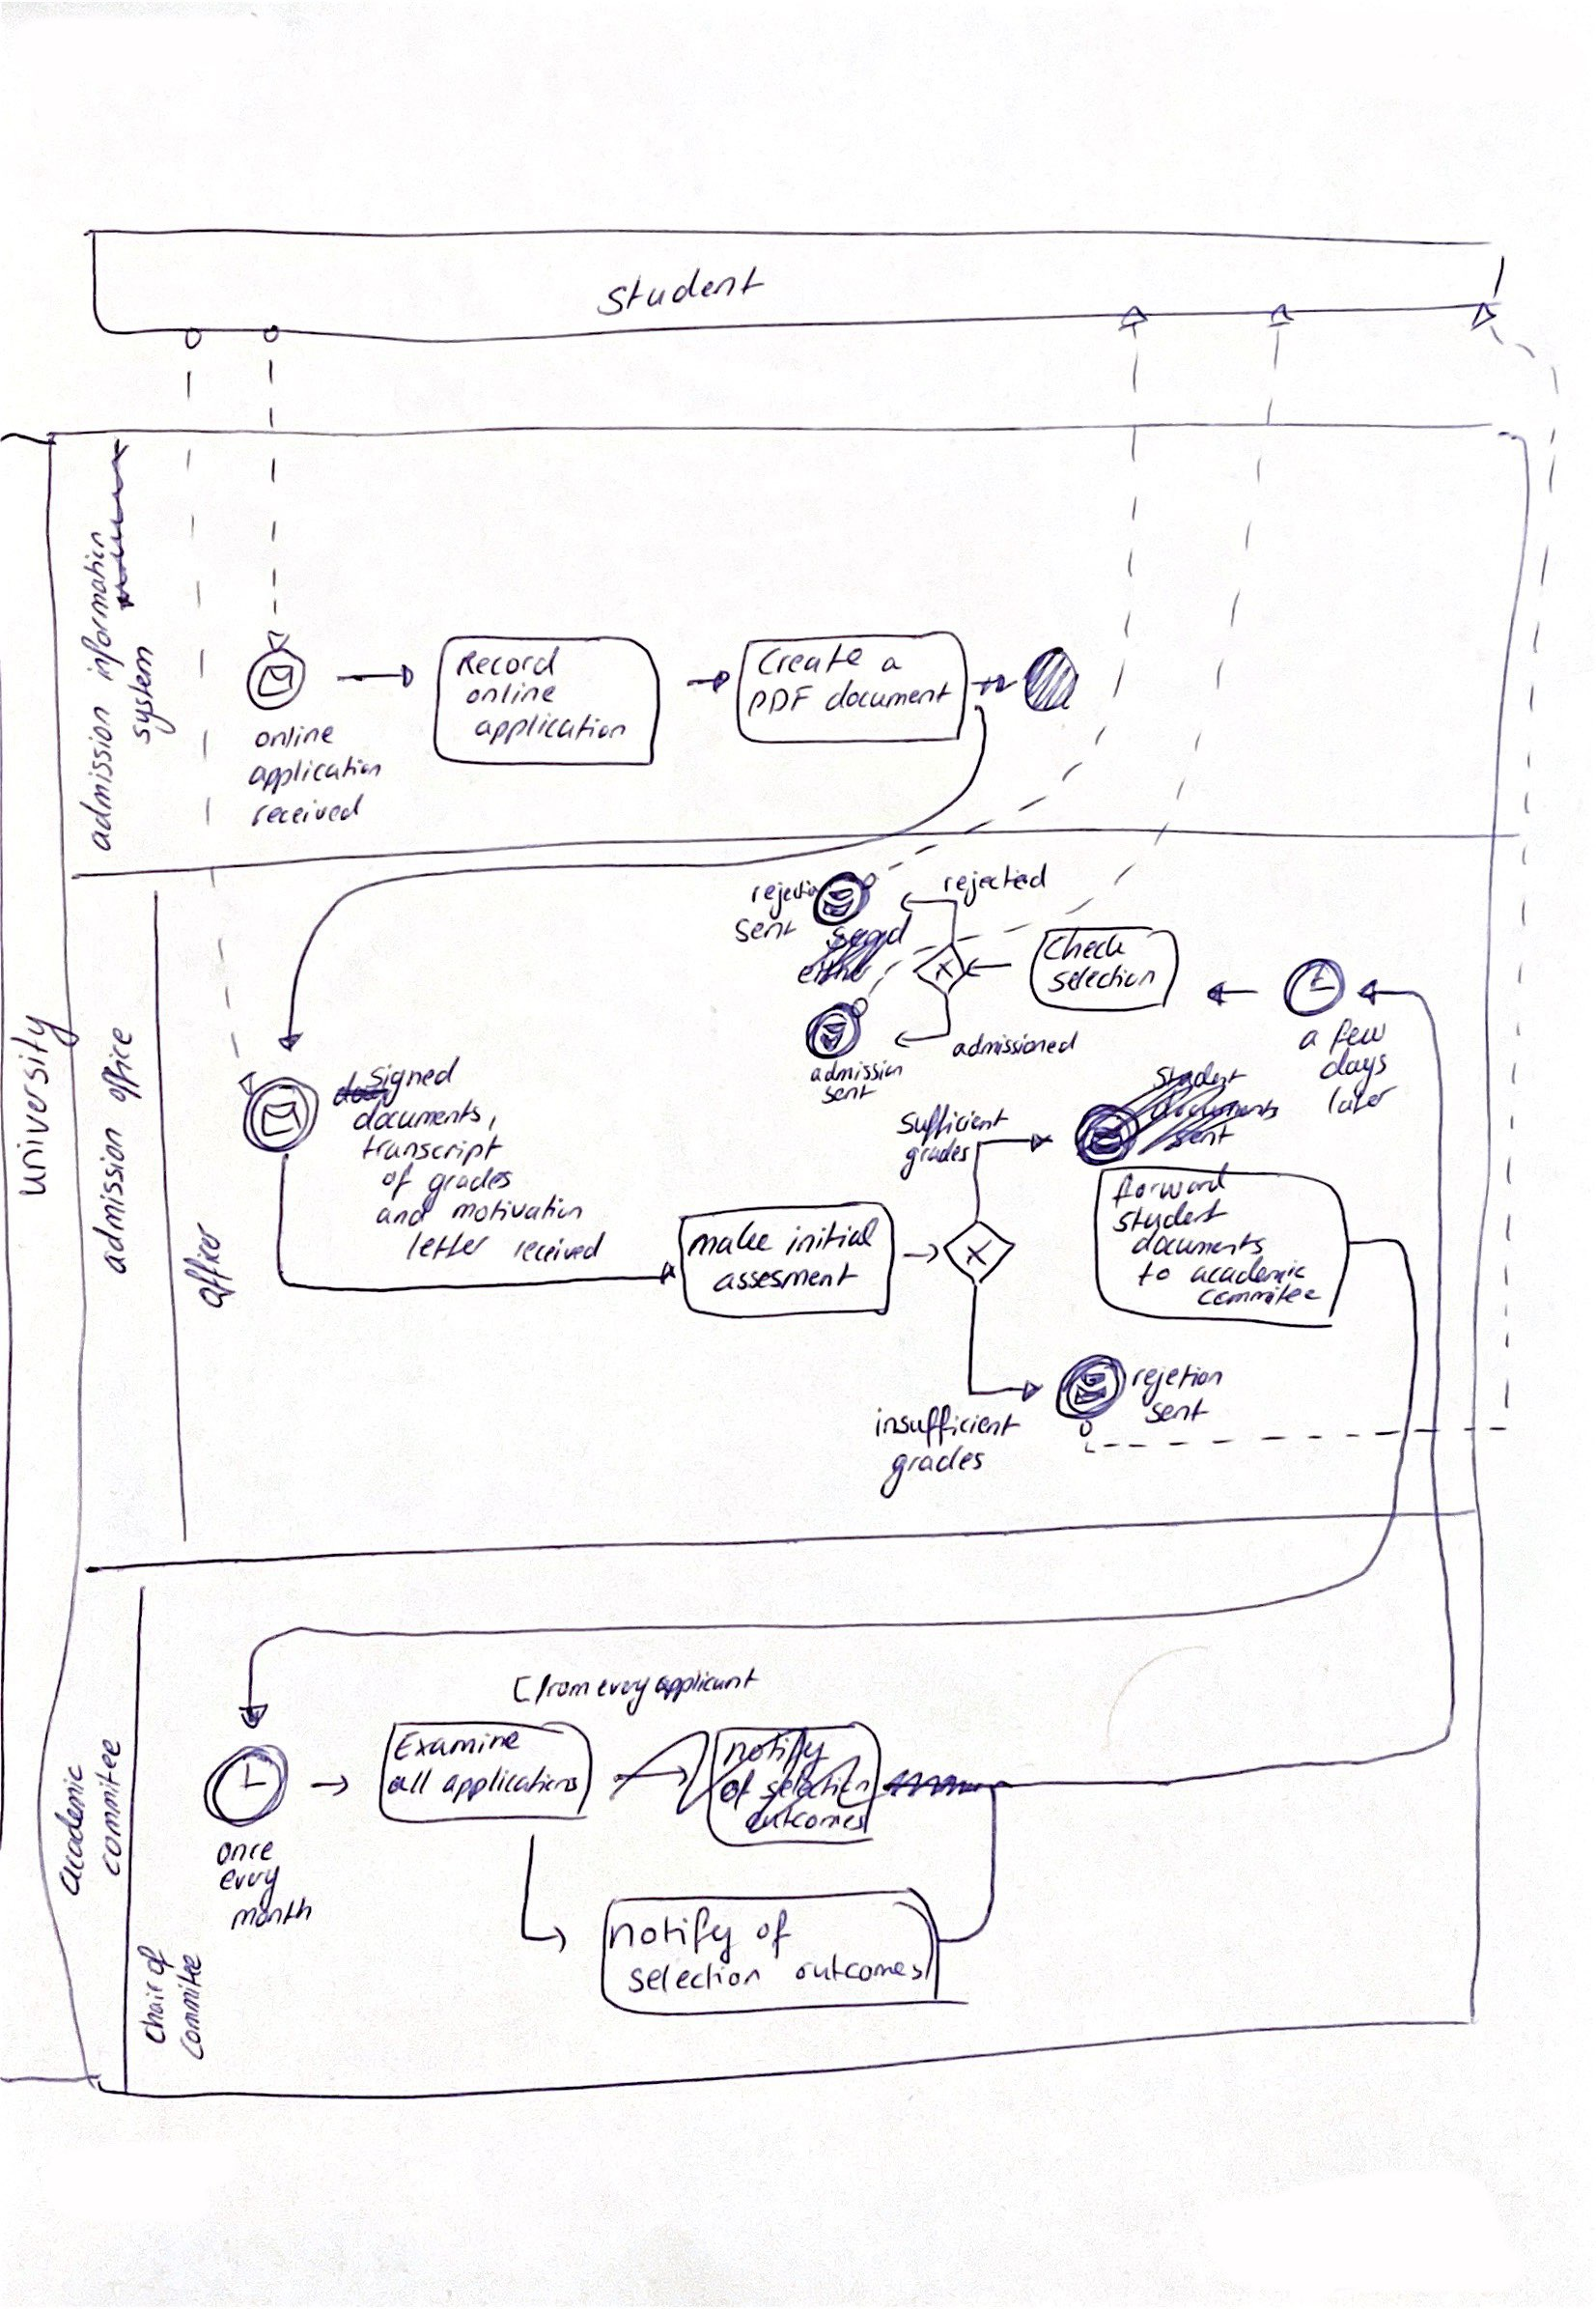Check: (1044, 931, 1129, 966)
Commitee: (177, 1955, 208, 2060)
Create: (756, 646, 877, 681)
Examine: (394, 1728, 526, 1765)
PDF: (750, 681, 823, 719)
Record: (459, 650, 562, 681)
Sent: (732, 907, 804, 947)
Sufficient: (897, 1099, 1015, 1146)
a: (1302, 1025, 1329, 1056), (882, 646, 908, 677)
academic: (53, 1764, 91, 1900), (1191, 1259, 1305, 1288)
admission: (92, 1116, 159, 1274), (80, 704, 116, 856), (810, 1057, 912, 1084)
admissioned: (951, 1030, 1082, 1066)
all: (389, 1766, 433, 1804)
and: (378, 1203, 443, 1229)
applicant: (650, 1661, 762, 1705)
application: (247, 752, 385, 795), (475, 714, 631, 747)
applications: (438, 1766, 584, 1804)
assesment: (719, 1262, 862, 1298)
chair: (136, 1983, 171, 2045)
commitee: (96, 1739, 125, 1873), (1198, 1281, 1322, 1310)
days: (1330, 1053, 1387, 1082)
document: (828, 673, 970, 717)
documents: (359, 1100, 490, 1138), (1137, 1231, 1270, 1261)
every: (217, 1864, 292, 1898), (588, 1669, 644, 1708)
few: (1331, 1019, 1389, 1054)
forward: (1117, 1171, 1224, 1206)
from: (530, 1672, 583, 1709)
grades: (888, 1447, 990, 1493), (428, 1167, 515, 1198), (900, 1139, 964, 1180)
information: (77, 518, 119, 690)
initial: (780, 1217, 882, 1259)
insufficient: (873, 1406, 1024, 1446)
later: (1318, 1075, 1400, 1118)
letter: (406, 1230, 503, 1265)
make: (698, 1221, 774, 1262)
month: (228, 1894, 314, 1930)
motivation: (459, 1195, 587, 1225)
notify: (614, 1909, 744, 1956)
of: (750, 1909, 797, 1956), (380, 1166, 422, 1198), (135, 1946, 171, 1980)
office: (96, 1026, 161, 1108)
officer: (180, 1221, 238, 1309)
once: (216, 1839, 277, 1867)
online: (255, 725, 340, 753), (466, 684, 558, 709)
outcomes: (792, 1952, 926, 1991)
received: (246, 796, 364, 833), (508, 1233, 607, 1265)
rejected: (932, 859, 1052, 911)
rejection: (1128, 1364, 1228, 1399), (742, 870, 825, 915)
selection: (627, 1958, 778, 1999), (1050, 963, 1162, 999)
sent: (1147, 1398, 1214, 1427), (822, 1081, 882, 1107)
signed: (362, 1056, 462, 1093)
student: (605, 259, 768, 321), (1116, 1197, 1233, 1236)
system: (127, 636, 163, 744)
to: (1139, 1256, 1185, 1287)
transcript: (358, 1136, 505, 1166)
university: (14, 1012, 68, 1193)
